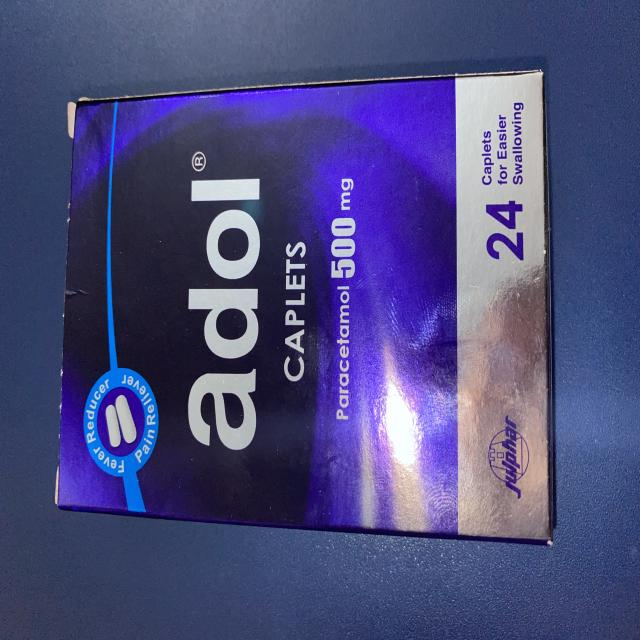medicine_packaging: (49, 53, 564, 560)
